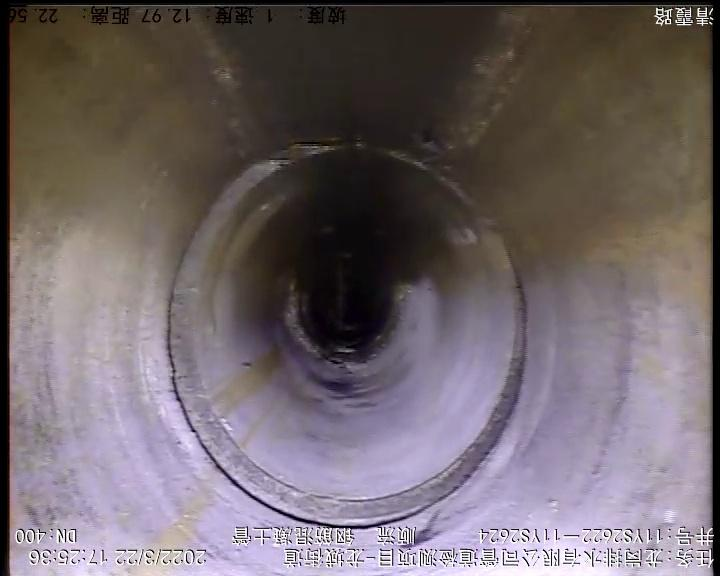CKTJ: (168, 158, 527, 529)
